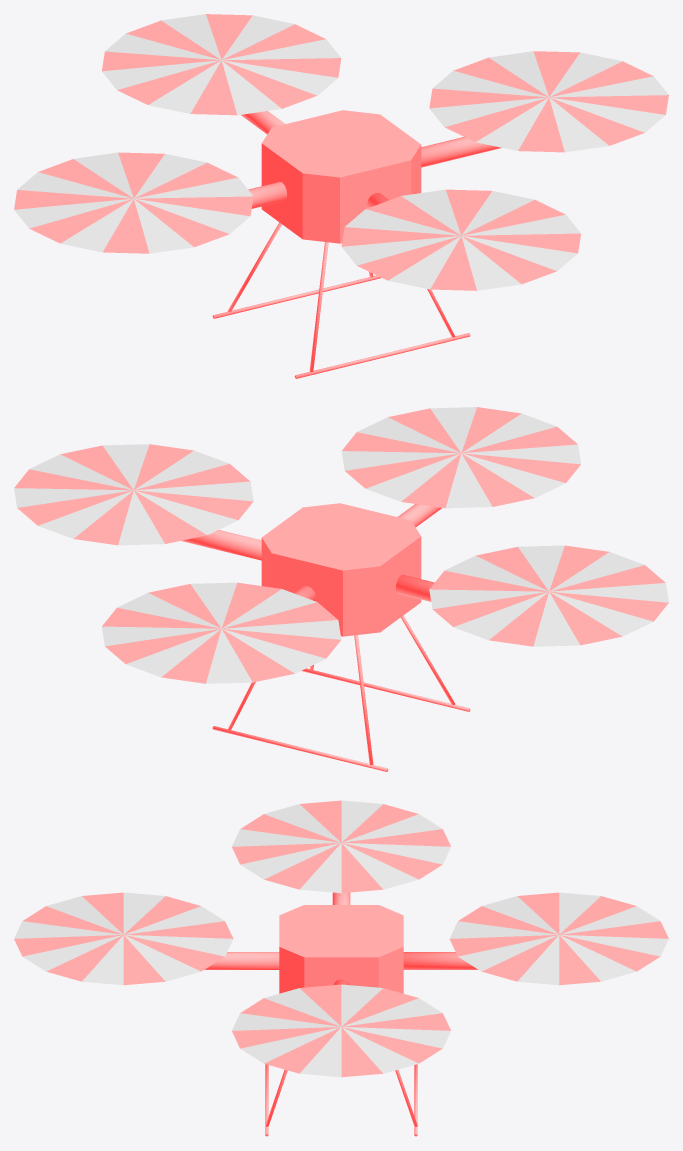
Rendered from quadrotor_base_red.dae.
The picture shows the model from 3 angles, top to bottom: view 1: azimuth 30°, elevation 25°; view 2: azimuth 150°, elevation 25°; view 3: azimuth 270°, elevation 25°; orthographic projection. The views are drawn at different scales.
Parts seen in each view (by area): view 1: MainBody_002; view 2: MainBody_002; view 3: MainBody_002.
Boxes of the visible parts, box(x1,y1,x2,y2) form: MainBody_002: box(14, 14, 668, 378); MainBody_002: box(14, 407, 668, 771); MainBody_002: box(14, 800, 668, 1136).
Bounding box in the file's own units: 0.7911 × 0.7911 × 0.2225.
